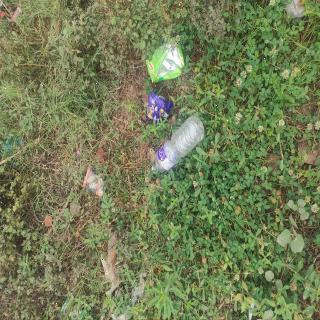Plastic-bottle: (152, 115, 207, 180)
